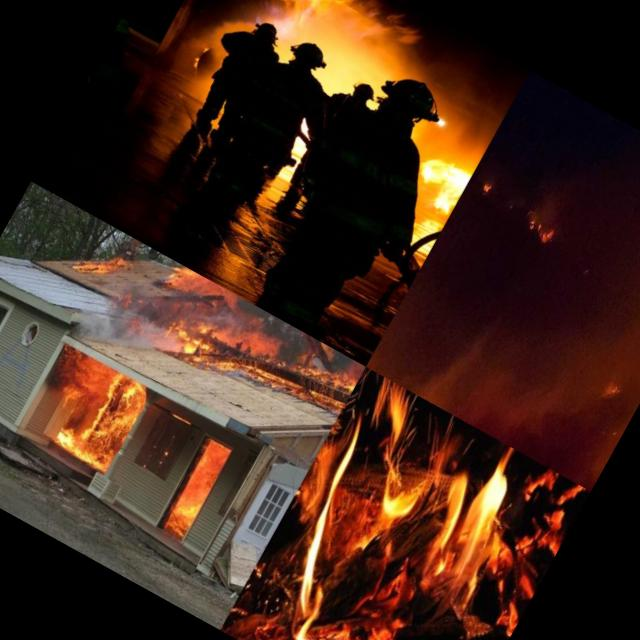fire: (235, 368, 547, 640), (22, 337, 166, 481), (142, 266, 290, 394), (255, 0, 425, 65), (153, 433, 243, 551), (278, 336, 365, 419), (403, 142, 476, 215), (68, 244, 128, 295), (590, 352, 640, 409), (520, 201, 567, 252), (469, 174, 510, 215)
smoke: (72, 275, 176, 372)
